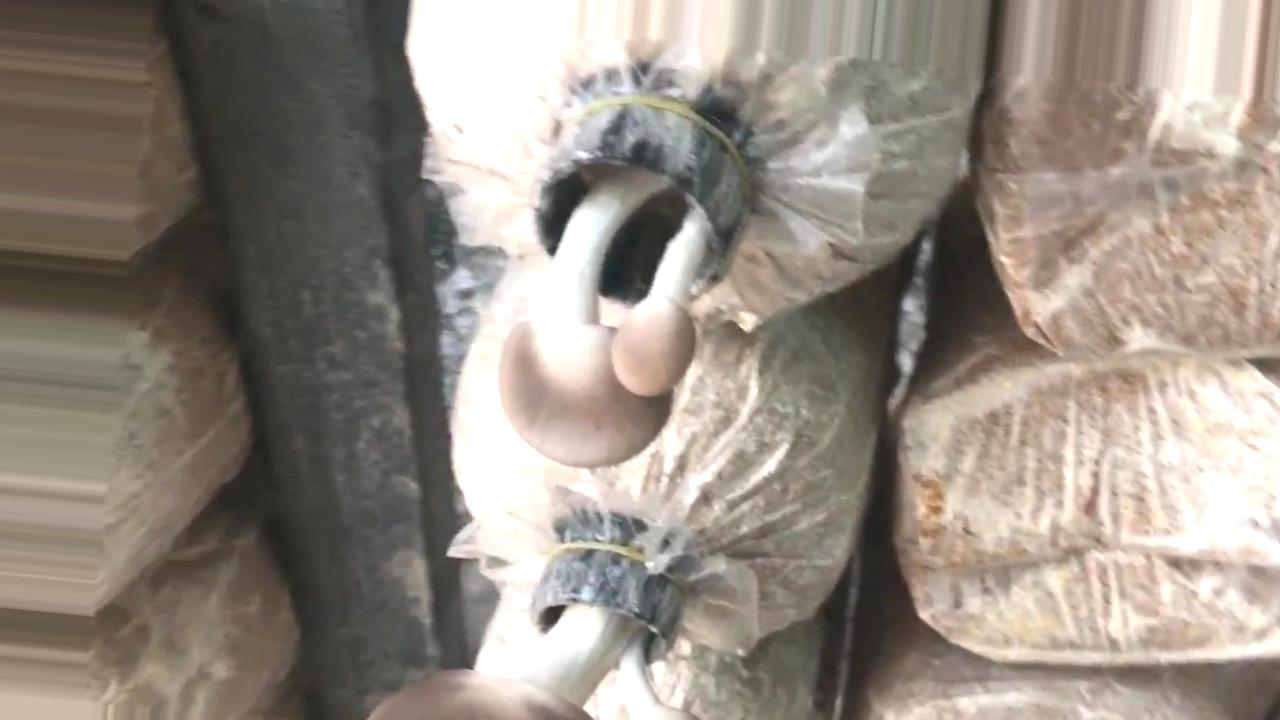nam: (498, 100, 747, 466), (374, 548, 702, 720)
